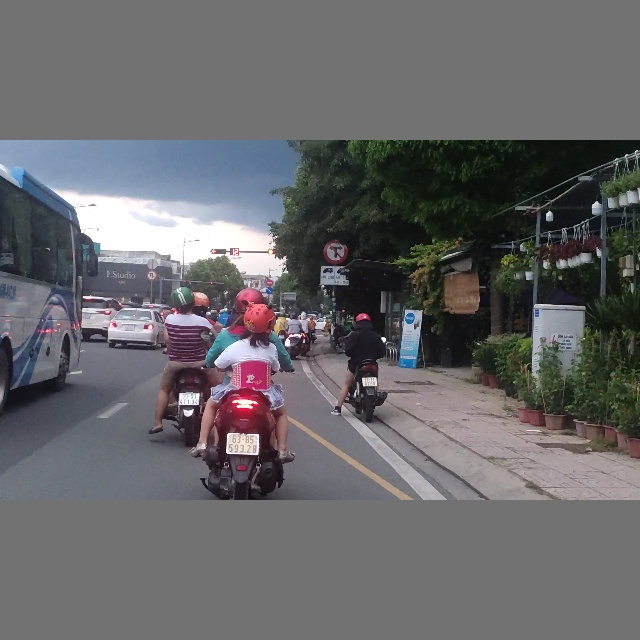P.102: (266, 279, 273, 286)
P.124a*: (146, 270, 157, 281)
P.137: (323, 239, 349, 265)
R.302a: (265, 287, 273, 294)
